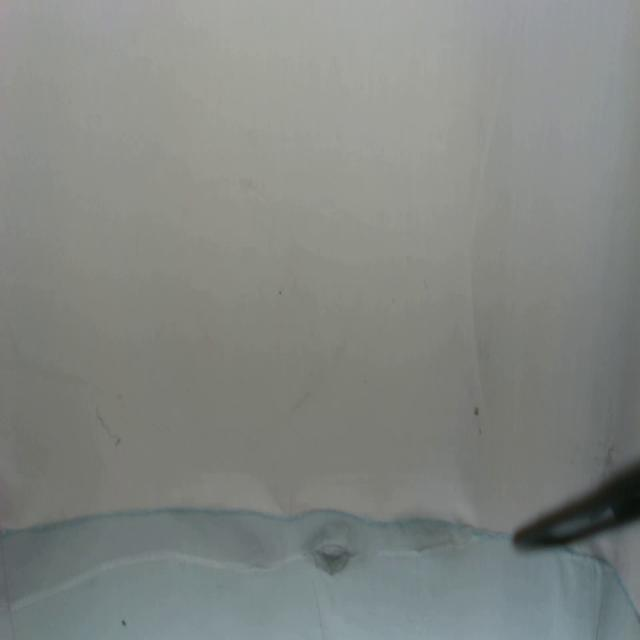hole: (472, 403, 482, 422), (121, 616, 128, 631), (277, 288, 284, 296), (479, 427, 484, 436)
